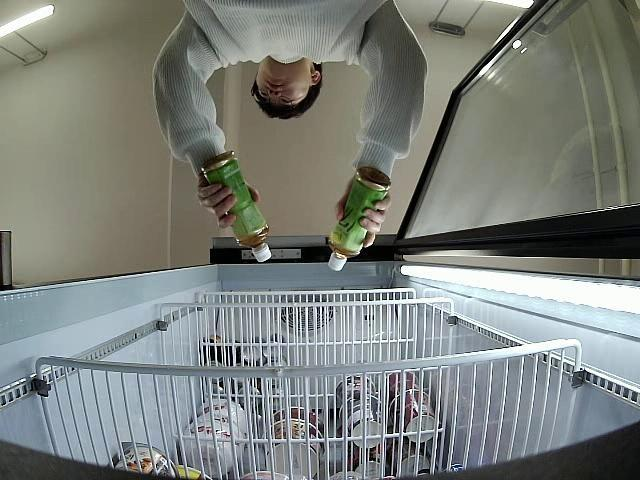19_17cha: (200, 151, 274, 262), (326, 166, 390, 274)
